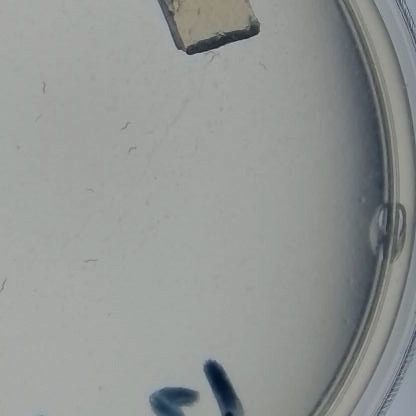worm: (77, 251, 109, 271), (37, 76, 55, 98), (30, 108, 52, 126), (12, 137, 34, 155), (254, 59, 268, 83), (120, 142, 145, 155), (0, 273, 14, 296), (116, 115, 134, 132), (82, 182, 102, 193)
